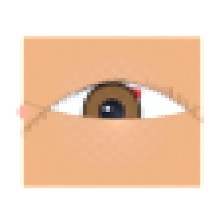hemorrhage_spot: (89, 70, 151, 120)
